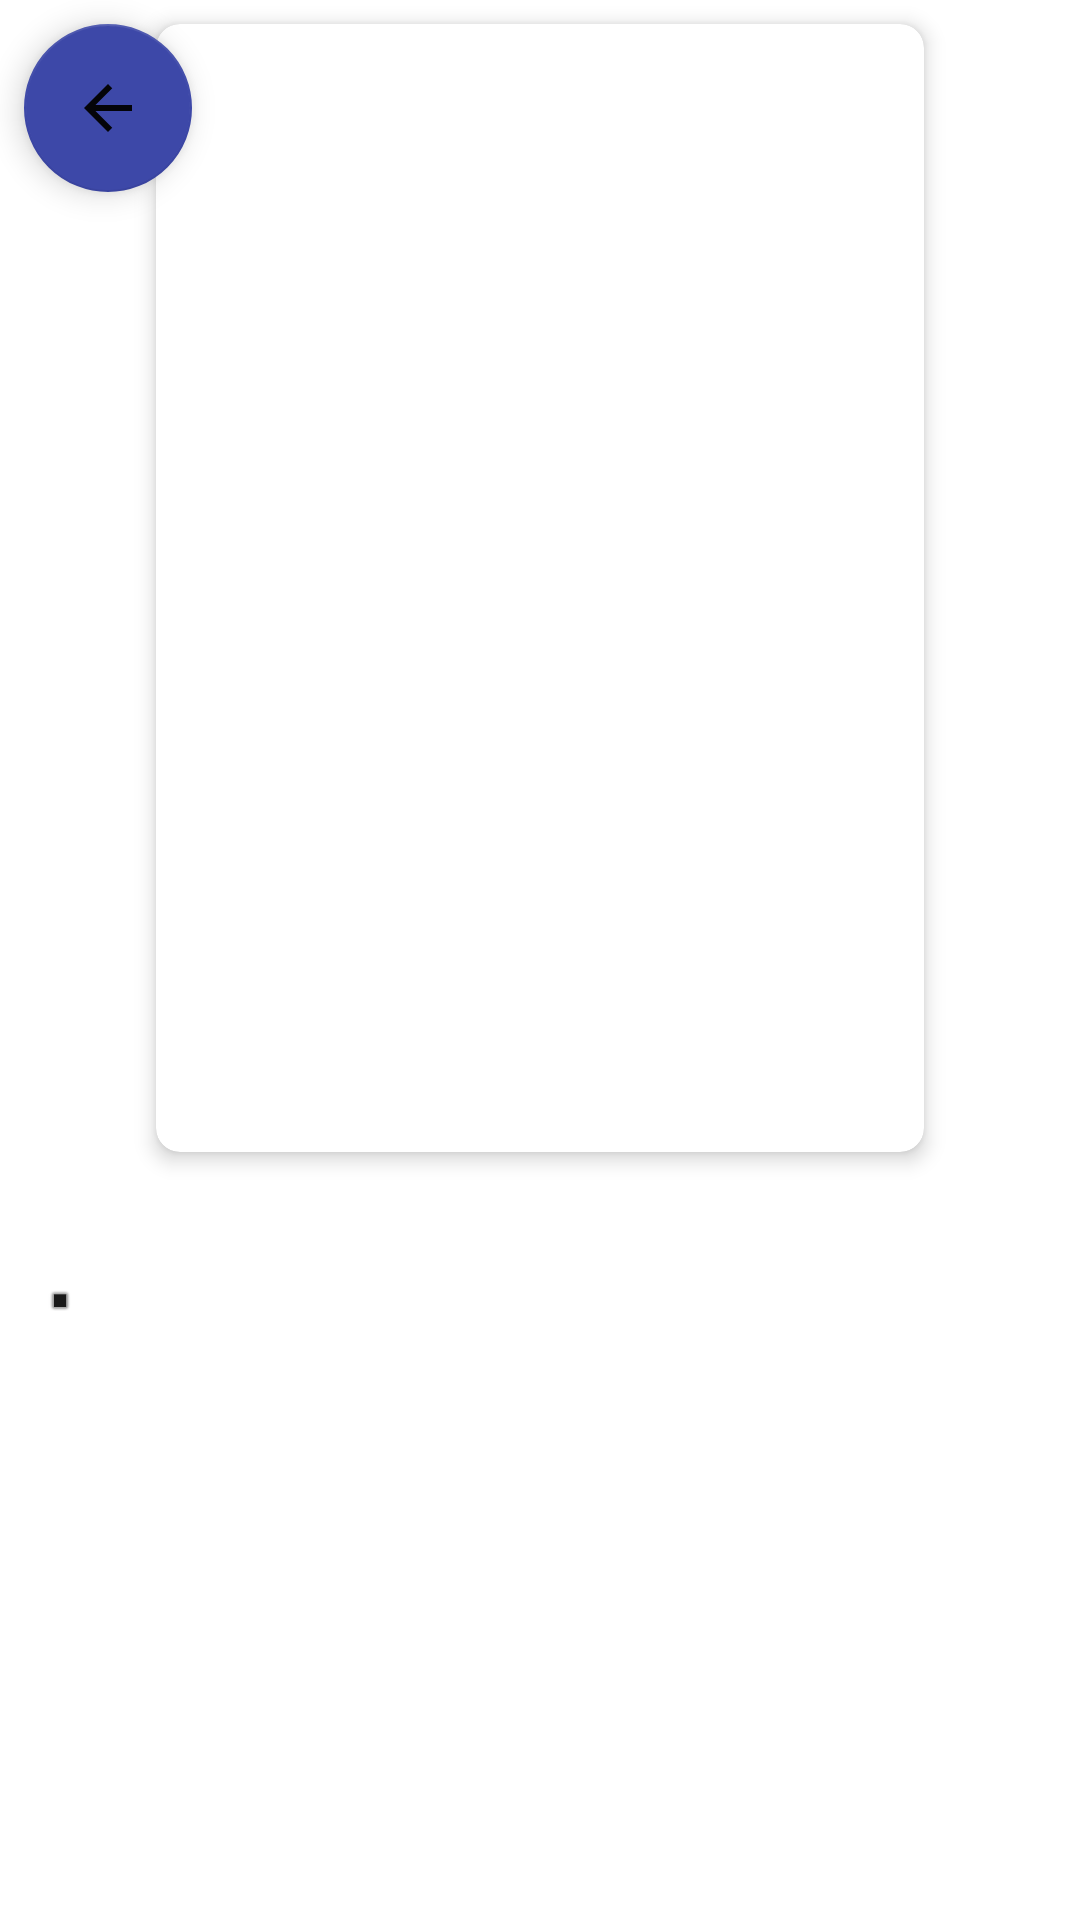

Named icons in this screenshot (1080px x 1920px) and their bounding boxes, (x1, y1, x2, y2):
arrow back: (24, 24, 192, 192)
